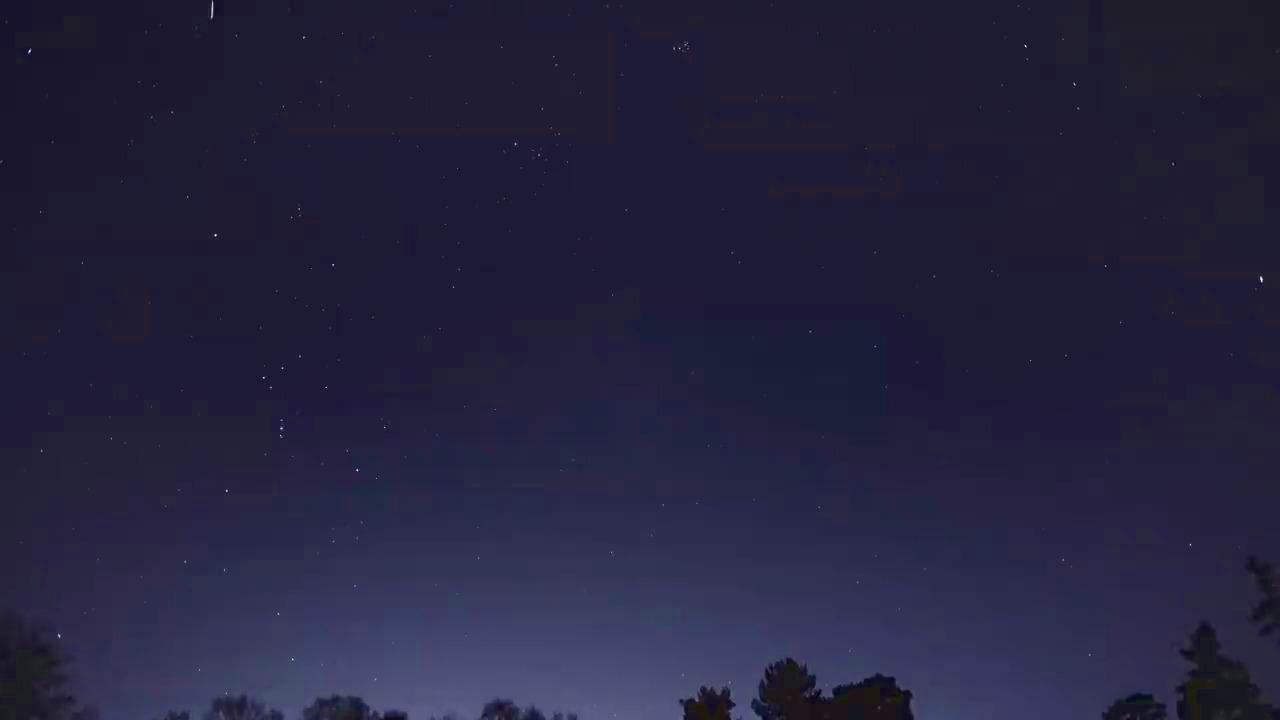meteorite: (181, 0, 246, 24)
